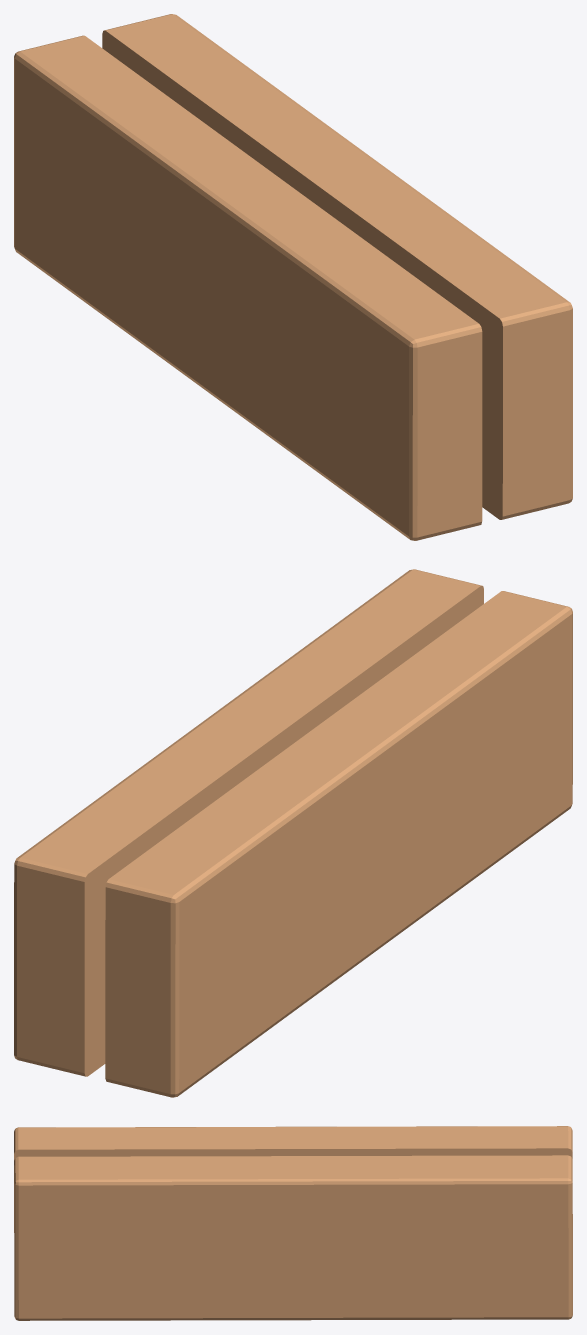
The model's file is ayr_ahsap.fbx.
3 renders of one model, top to bottom at view 1: azimuth 30°, elevation 25°; view 2: azimuth 150°, elevation 25°; view 3: azimuth 270°, elevation 25°, orthographic. The views are drawn at different scales.
Visible parts, largest first — view 1: Cube, Cube.001; view 2: Cube, Cube.001; view 3: Cube.001, Cube.
Boxes of the visible parts, x1,y1,x2,y2 form: Cube: [14, 35, 482, 540]; Cube.001: [102, 14, 572, 519]; Cube: [105, 591, 572, 1097]; Cube.001: [14, 569, 483, 1076]; Cube.001: [14, 1155, 572, 1320]; Cube: [14, 1126, 572, 1232].
Bounding box in the file's own units: 306 × 358 × 1281.
